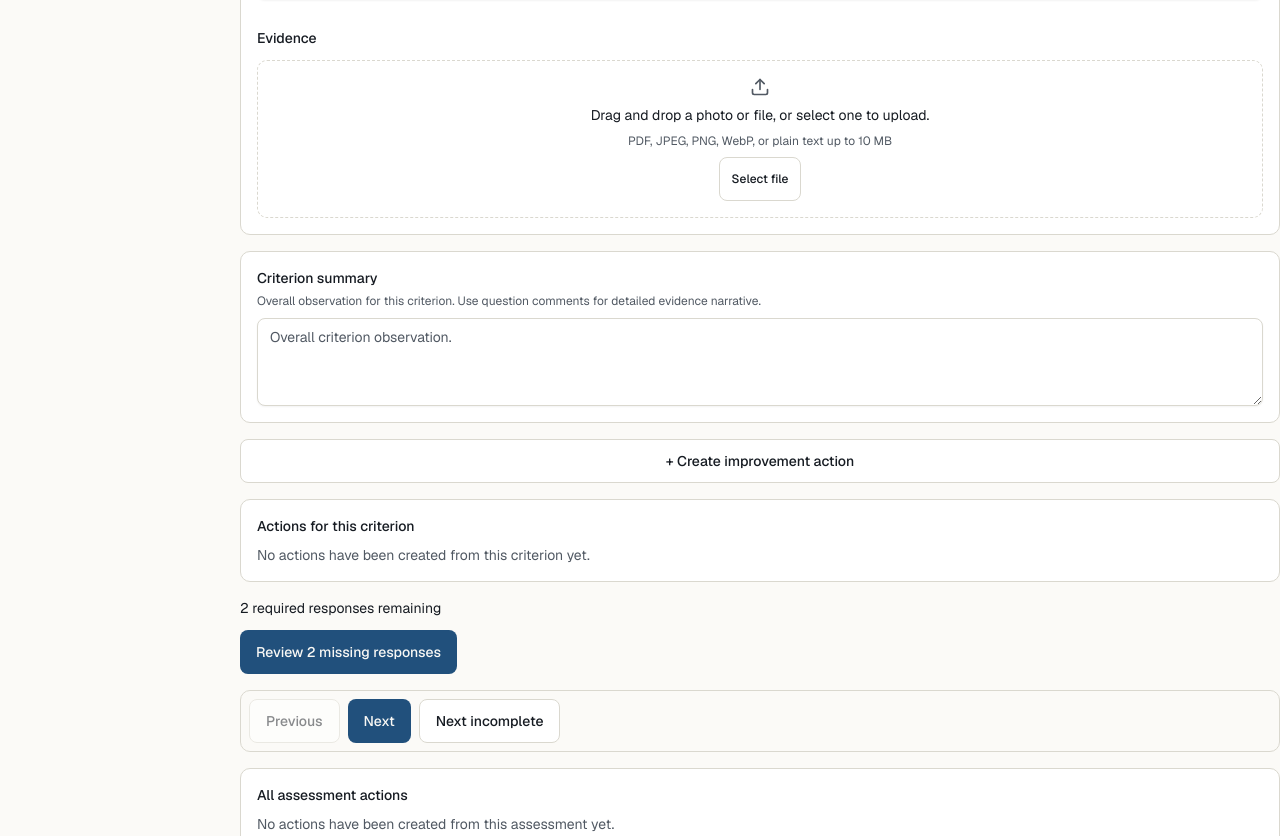
Test case: AssessmentWorkspace › keeps N/A available and collapses the action form
The image size is (1280, 836).
(page scrolled)
Expected: the field labelled "Create action" is not shown
Click the button with test id "create-improvement-action": (760, 461) top-left (240, 439), bottom-right (1279, 483)
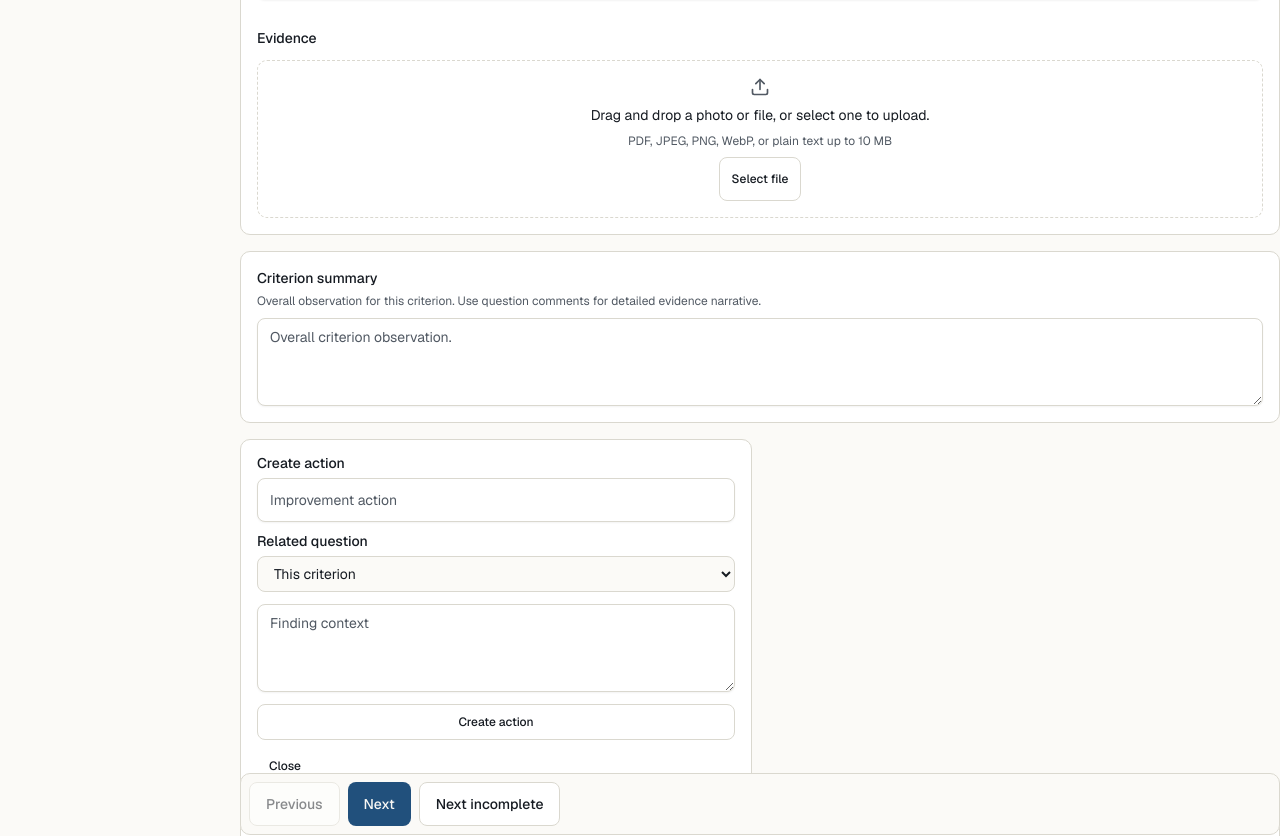
Result: the field labelled "Create action" is shown at top-left (257, 478), bottom-right (735, 522)
